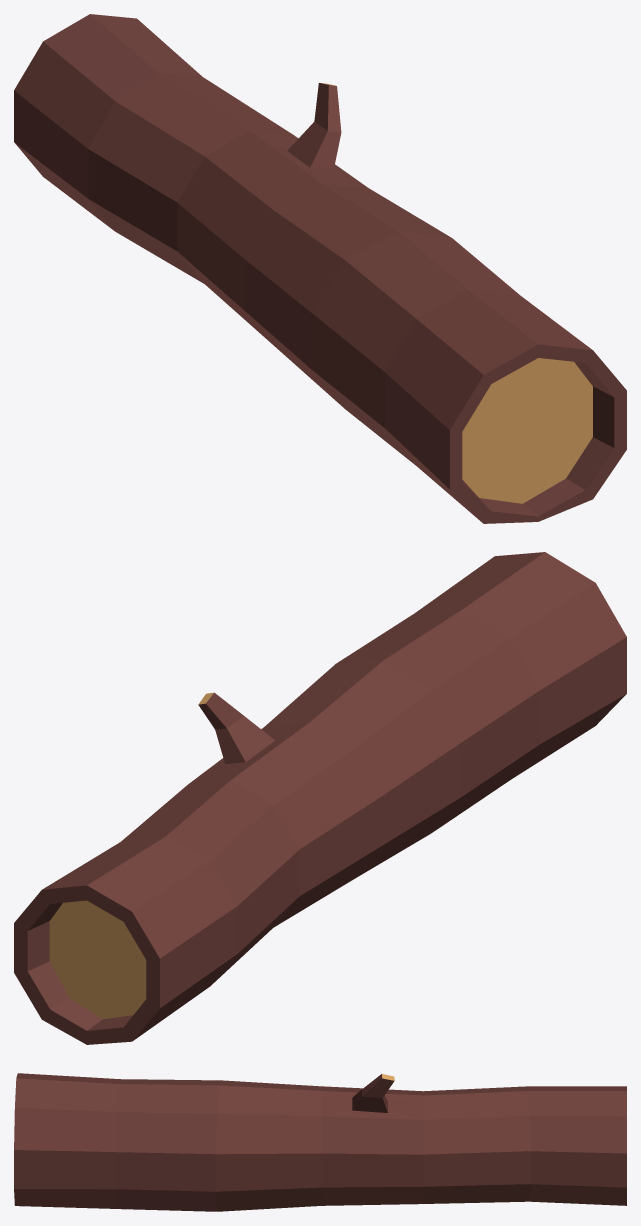
File: Log.fbx
The picture shows the model from 3 angles, top to bottom: view 1: azimuth 30°, elevation 25°; view 2: azimuth 150°, elevation 25°; view 3: azimuth 270°, elevation 25°; orthographic projection. The views are drawn at different scales.
Parts seen in each view (by area): view 1: Cylinder; view 2: Cylinder; view 3: Cylinder.
Part boxes in pixels (<box>): Cylinder: <box>14,14,626,523</box>; Cylinder: <box>14,552,626,1044</box>; Cylinder: <box>14,1073,626,1211</box>.
Bounding box in the file's own units: 231 × 1007 × 263.
